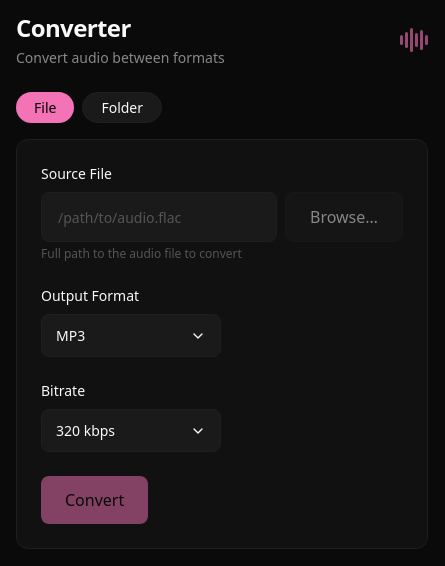
Test: Converter › switches to folder mode when Folder tab clicked
This screenshot has width=445, height=566.
Click the button "Folder": x=122, y=108 [82,92,162,123]
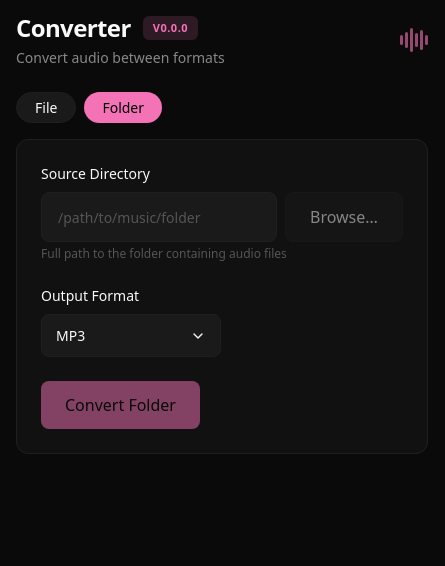
Now the text "Source Directory" is shown, box [41,164,150,183]
